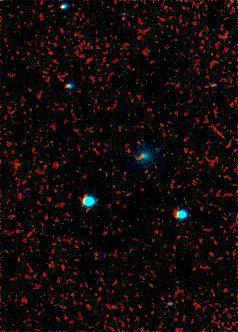star: (43, 148, 73, 178)
